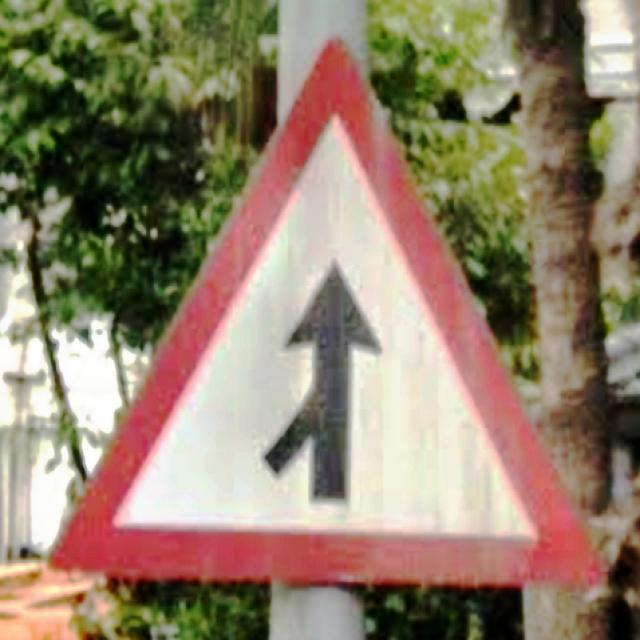leftmerge: (47, 34, 609, 591)
